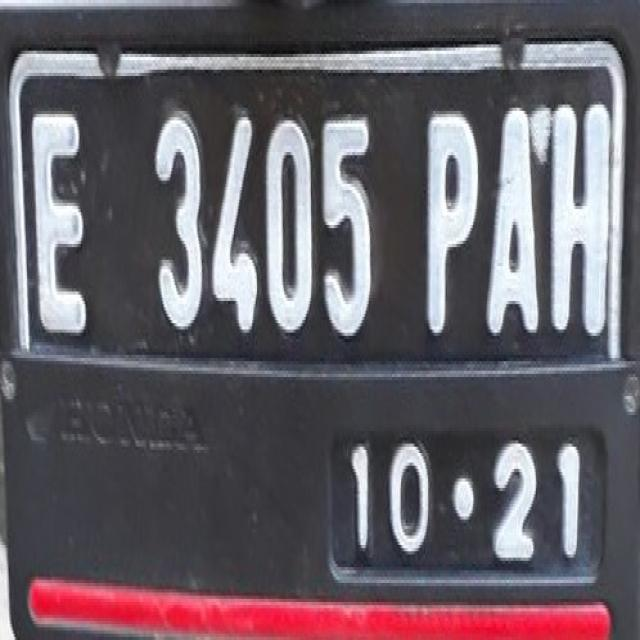plate: (1, 38, 628, 595)
